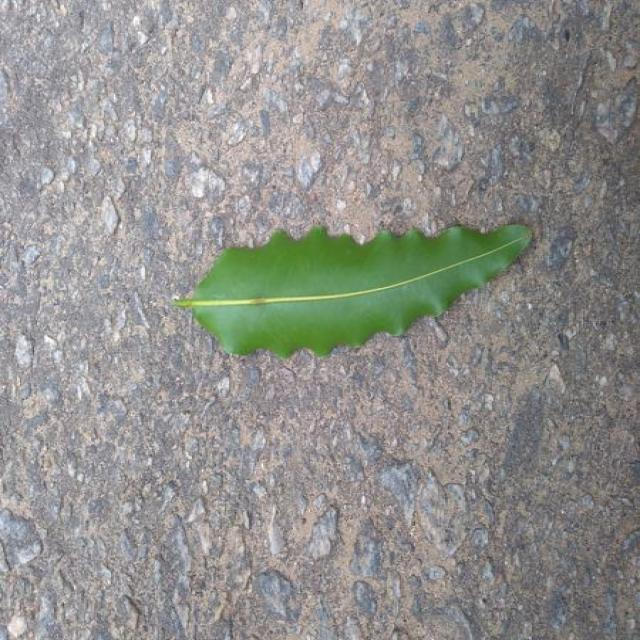ashoka: (175, 225, 532, 357)
